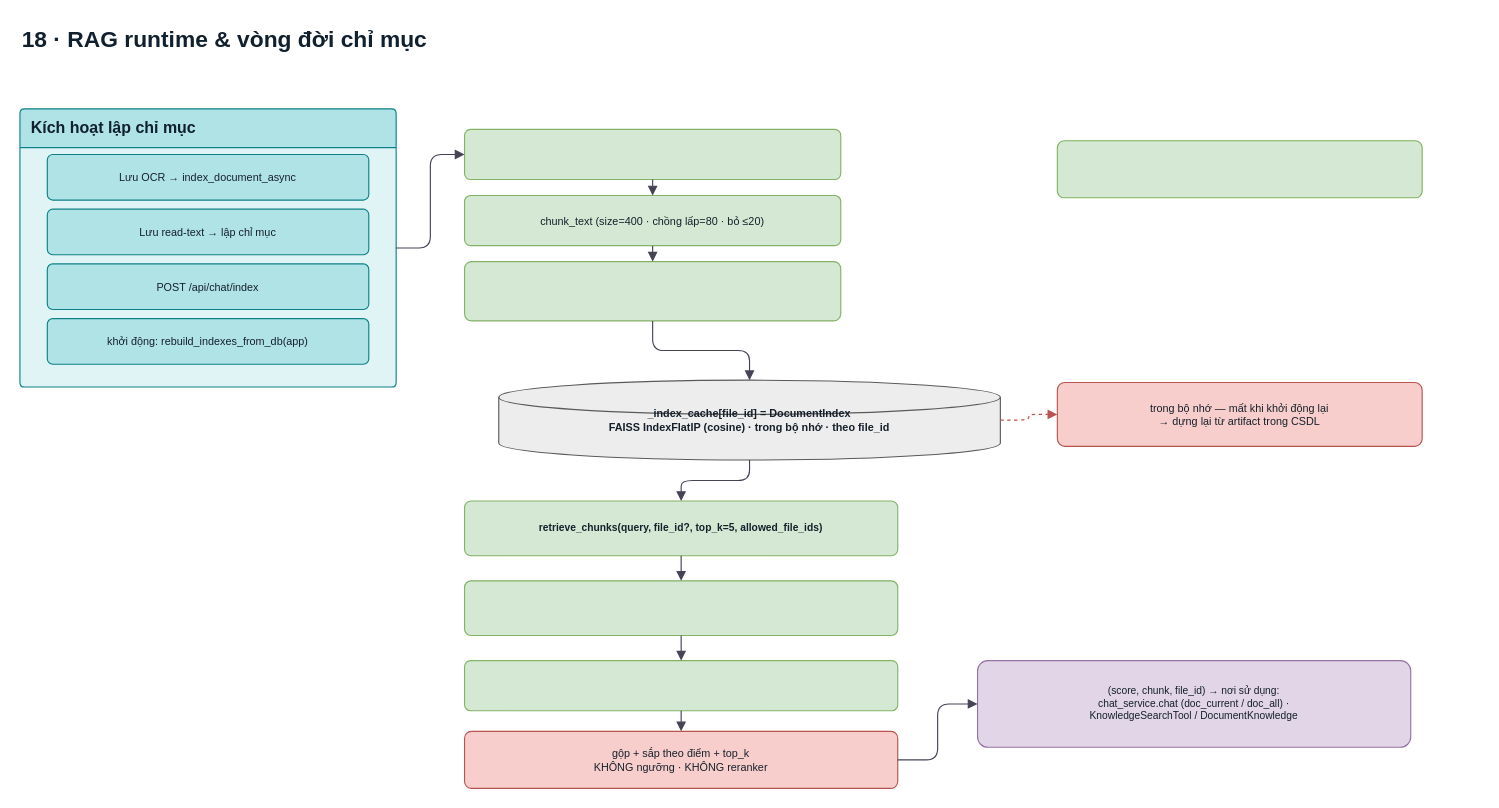
Some shapes in this 1499 by 808 pixel diagram are drawn without their labels. The box of each missing label's shape, as (x1, y1, x2, y2) in pixels:
chọn đích: một file_id HOẶC tất cả sở hữu ∩ allowed_file_ids: (463, 580, 898, 636)
EmbeddingEngine.embed SBERT → dự phòng Hashing · chuẩn hóa L2: (463, 260, 841, 321)
index_document(file_id, text): (463, 128, 841, 180)
is_indexed(file_id) · remove_document(file_id): (1056, 140, 1422, 198)
tìm trên từng chỉ mục · FAISS IndexFlatIP: (463, 659, 898, 711)
